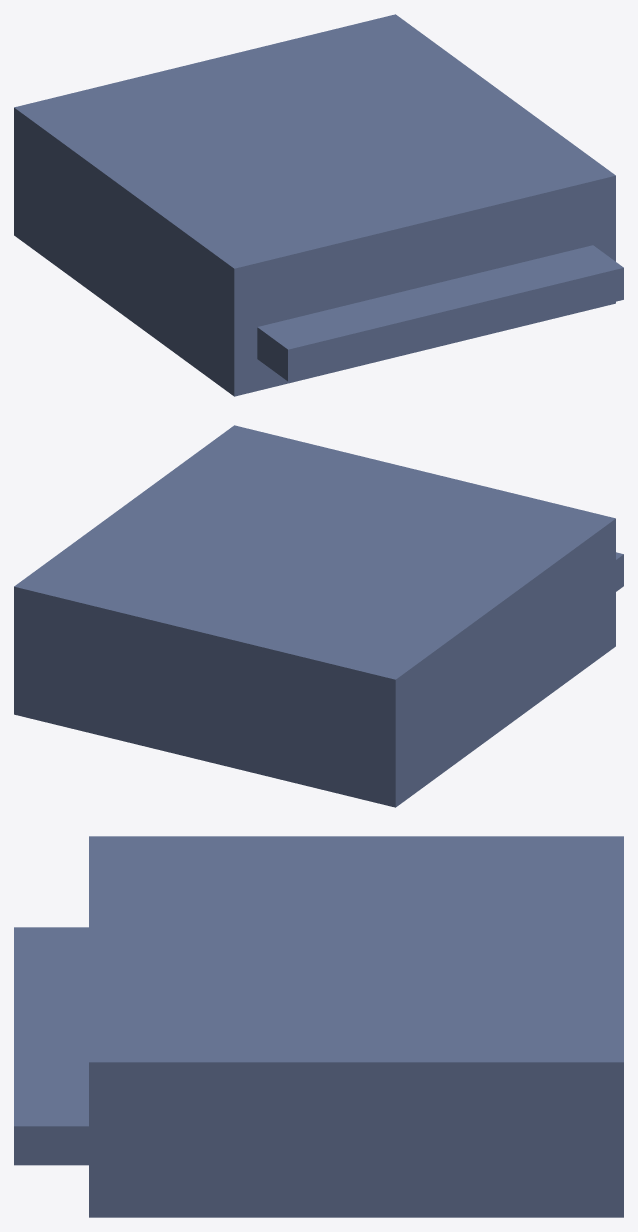
The model's file is harbor_cap.glb.
The picture shows the model from 3 angles, top to bottom: view 1: azimuth 30°, elevation 25°; view 2: azimuth 150°, elevation 25°; view 3: azimuth 270°, elevation 25°; orthographic projection. The views are drawn at different scales.
Parts seen in each view (by area): view 1: cap, brim; view 2: cap; view 3: cap, brim.
Part boxes in pixels (x1,y1,x2,y2): cap: [14, 14, 615, 396]; brim: [257, 245, 623, 381]; cap: [14, 425, 615, 807]; cap: [89, 836, 623, 1217]; brim: [14, 927, 88, 1165].
Size of the model in its own units: 0.5 by 0.1602 by 0.57.
